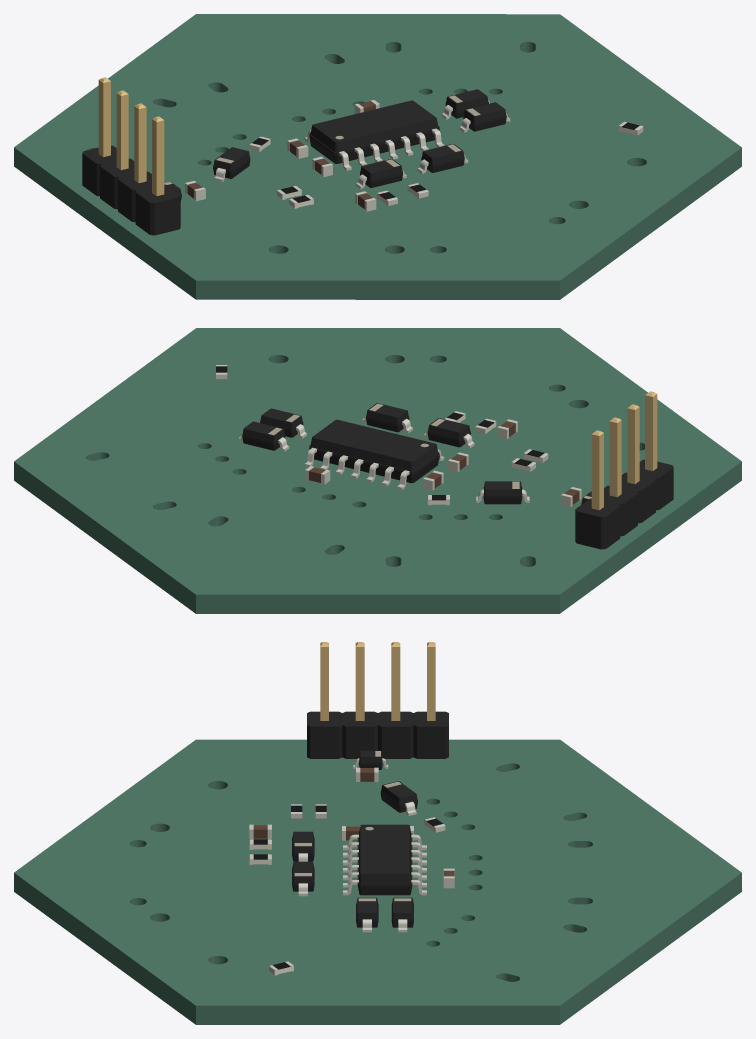
The model's file is ADSR.glb.
3 views of the same model, one above another, from view 1: azimuth 30°, elevation 25°; view 2: azimuth 150°, elevation 25°; view 3: azimuth 270°, elevation 25° (orthographic).
Parts seen in each view (by area): view 1: =>[0:1:1:14], =>[0:1:1:11], =>[0:1:1:3], =>[0:1:1:9] (×5); view 2: =>[0:1:1:14], =>[0:1:1:11], =>[0:1:1:3], =>[0:1:1:9] (×5); view 3: =>[0:1:1:14], =>[0:1:1:11], =>[0:1:1:3], =>[0:1:1:9] (×5).
Part boxes in pixels (x1,y1,x2,y2): =>[0:1:1:14]: [14, 14, 741, 299]; =>[0:1:1:11]: [82, 77, 180, 235]; =>[0:1:1:3]: [304, 100, 444, 170]; =>[0:1:1:9] (×5): [213, 89, 510, 188]; =>[0:1:1:14]: [14, 328, 741, 613]; =>[0:1:1:11]: [575, 391, 673, 549]; =>[0:1:1:3]: [304, 419, 444, 489]; =>[0:1:1:9] (×5): [238, 403, 529, 504]; =>[0:1:1:14]: [14, 739, 741, 1024]; =>[0:1:1:11]: [307, 642, 448, 758]; =>[0:1:1:3]: [343, 824, 426, 895]; =>[0:1:1:9] (×5): [292, 781, 417, 932].
Size of the model in its own units: 0.045 by 0.0115 by 0.052.
